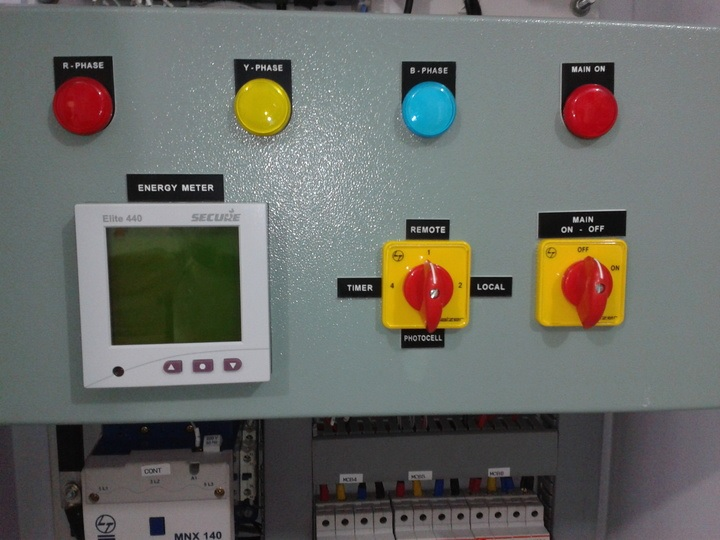Blue_Led_Off: (395, 78, 464, 148)
Red_Led_Off: (47, 71, 117, 148), (560, 80, 622, 143)
Yellow_Led_Off: (227, 73, 298, 140)
